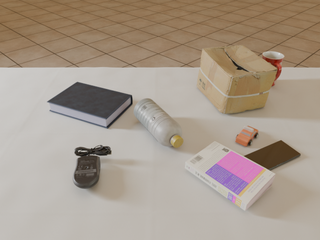book: (185, 141, 275, 211), (47, 82, 132, 128)
bottle: (134, 98, 183, 148)
box: (197, 45, 278, 114)
cup: (262, 52, 284, 86)
mouse: (73, 145, 112, 189)
phone: (244, 140, 301, 170)
toy_car: (235, 126, 258, 146)
